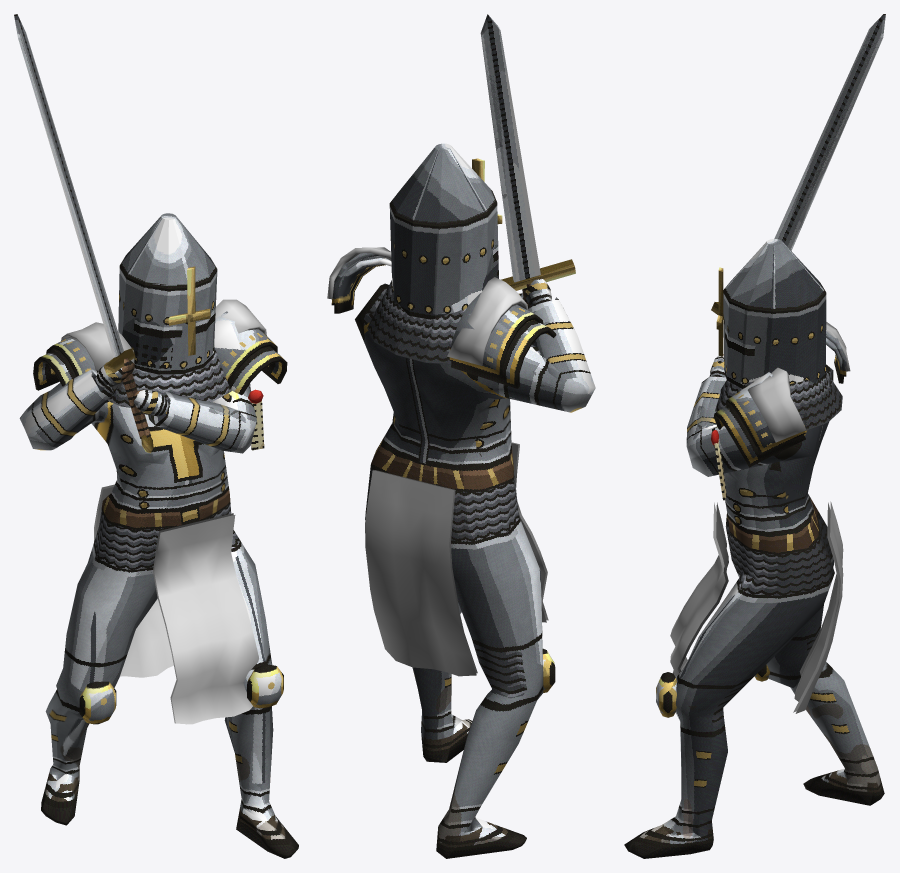
File: holy-warrior.glb
3 views of the same model, side by side, from view 1: azimuth 30°, elevation 25°; view 2: azimuth 150°, elevation 25°; view 3: azimuth 270°, elevation 25° (orthographic). The views are drawn at different scales.
Visible parts, largest first — view 1: Body, Accent, Helmet, Chest, Weapon; view 2: Body, Accent, Helmet, Weapon, Chest; view 3: Body, Helmet, Accent, Chest, Weapon.
Part boxes in pixels (x1,y1,x2,y2): Body: (19, 359, 298, 858); Accent: (61, 299, 266, 724); Helmet: (108, 213, 231, 407); Chest: (33, 311, 287, 724); Weapon: (14, 14, 153, 453); Body: (355, 278, 595, 858); Accent: (327, 247, 548, 676); Helmet: (367, 143, 502, 364); Weapon: (480, 14, 575, 307); Chest: (331, 253, 556, 692); Body: (624, 354, 884, 858); Helmet: (715, 239, 842, 430); Accent: (670, 322, 850, 713); Chest: (656, 331, 846, 717); Weapon: (711, 14, 885, 314).
Bounding box in the file's own units: 0.386 × 1.2 × 0.3693.
5 materials, 4 textured.
